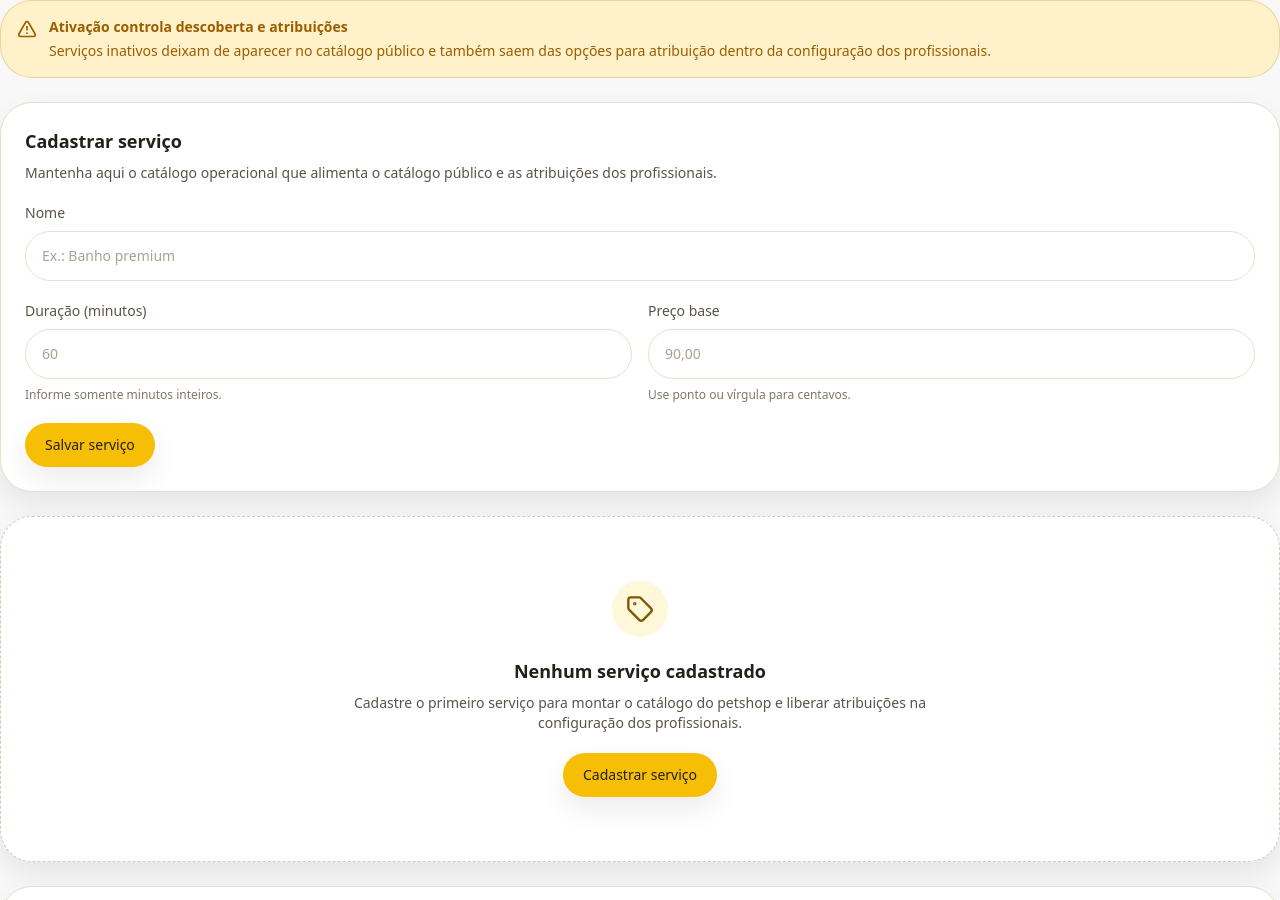
ServicesPageClient › shows empty and validation states for services setup
Check: the text "Nenhum serviço cadastrado" is shown, box [514,659,766,683]
Click the button "Salvar serviço" at {"x": 90, "y": 445}, box [25,423,155,467]
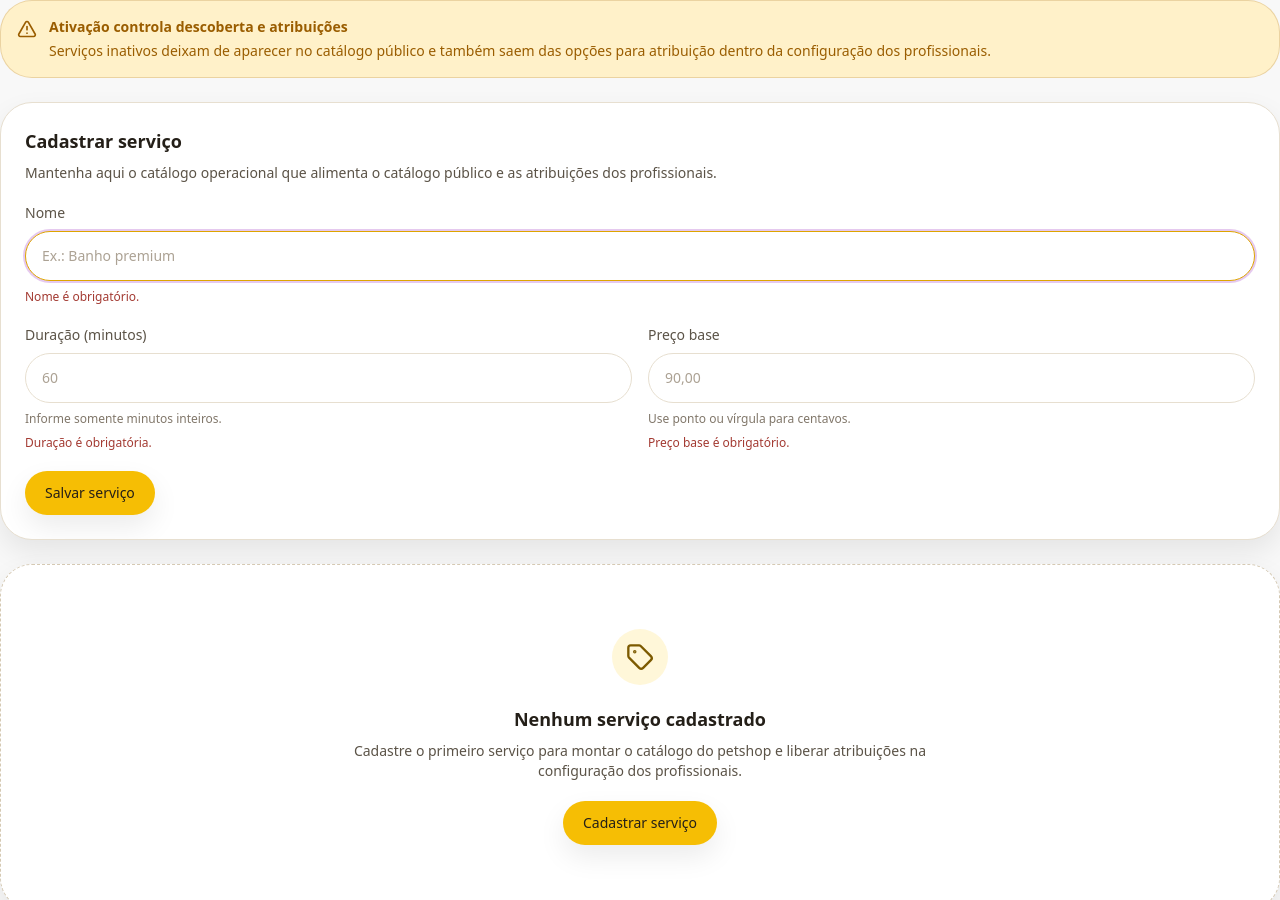
Check: the text "Nome é obrigatório." is shown, box [25,288,139,305]
Check: the text "Duração é obrigatória." is shown, box [25,434,152,451]
Check: the text "Preço base é obrigatório." is shown, box [648,434,790,451]
